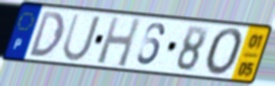6: (136, 21, 167, 68)
8: (174, 24, 209, 73)
D: (28, 10, 67, 59)
H: (94, 15, 143, 69)
O: (203, 26, 246, 78)
U: (59, 12, 103, 63)
